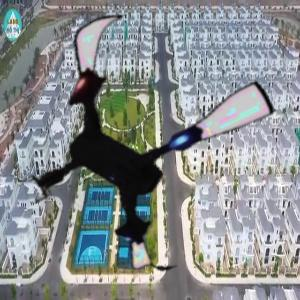drone: (12, 3, 284, 275)
